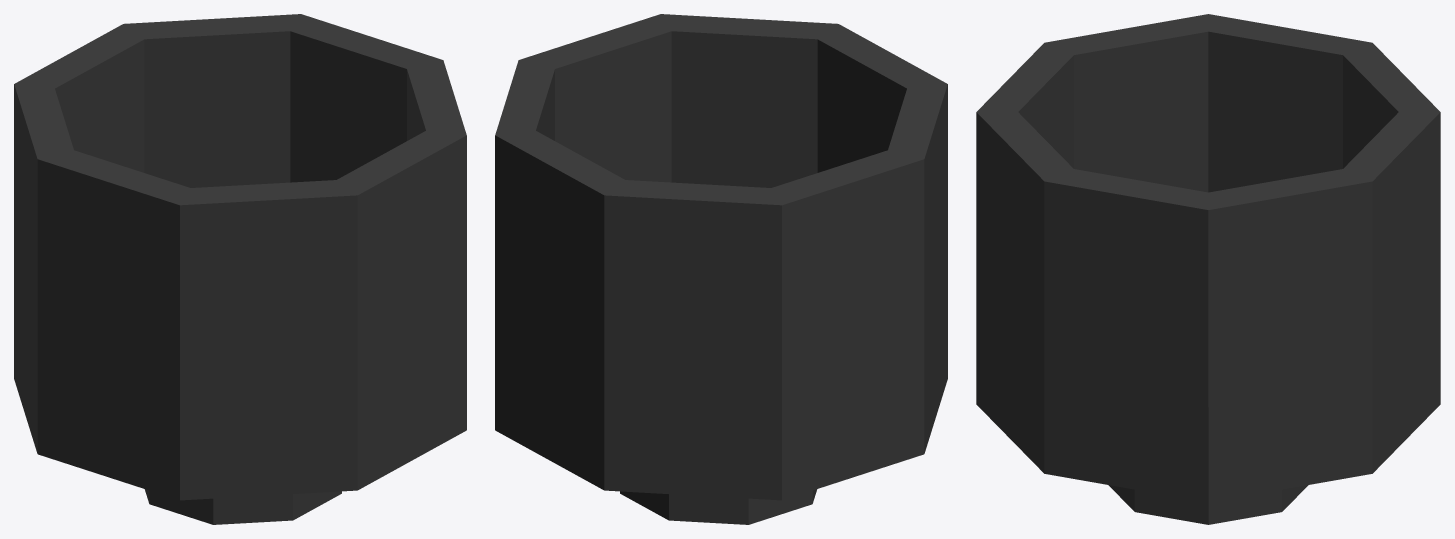
File: SMG1_04_4.fbx
The picture shows the model from 3 angles, left to right: view 1: azimuth 30°, elevation 25°; view 2: azimuth 150°, elevation 25°; view 3: azimuth 270°, elevation 25°; orthographic projection.
Parts seen in each view (by area): view 1: SMG1_04_4; view 2: SMG1_04_4; view 3: SMG1_04_4.
Part boxes in pixels (box(x1,y1,x2,y2)): SMG1_04_4: box(14, 14, 466, 524); SMG1_04_4: box(495, 14, 947, 524); SMG1_04_4: box(976, 14, 1440, 524).
Bounding box in the file's own units: 0.0125 × 0.0109 × 0.0125.
